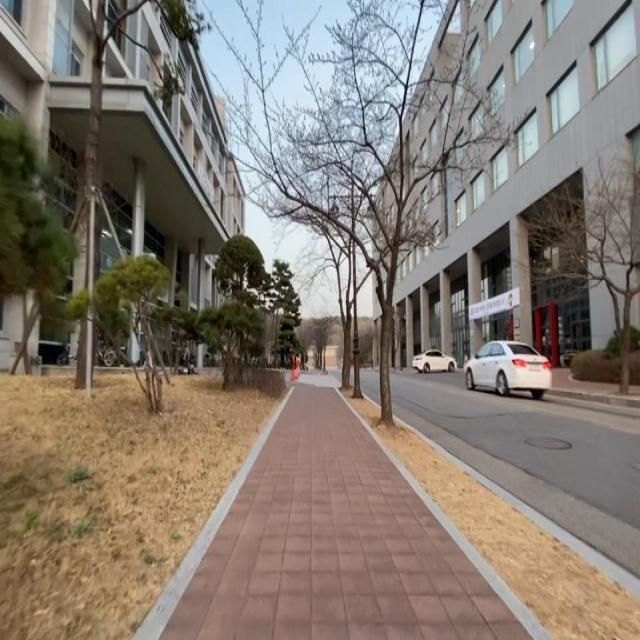sidewalk: (158, 386, 533, 640), (550, 369, 620, 393), (628, 385, 640, 398)
